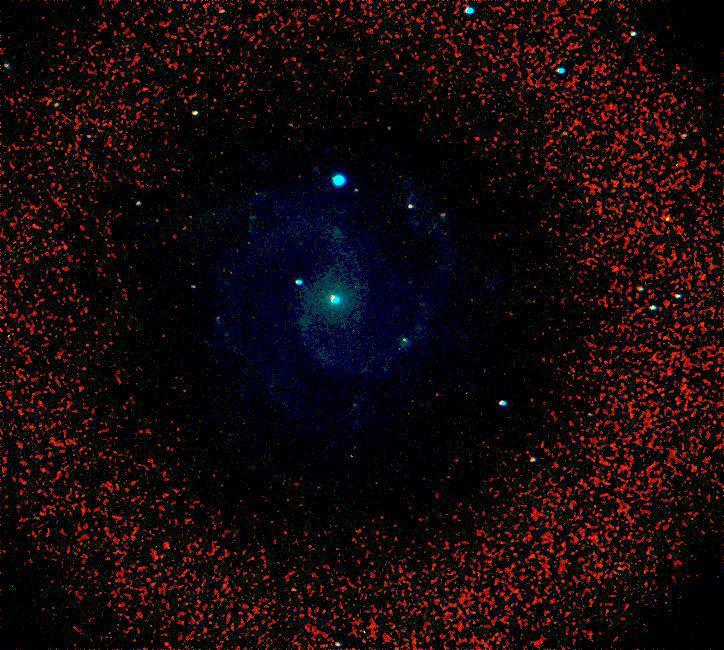star: (326, 270, 356, 300)
